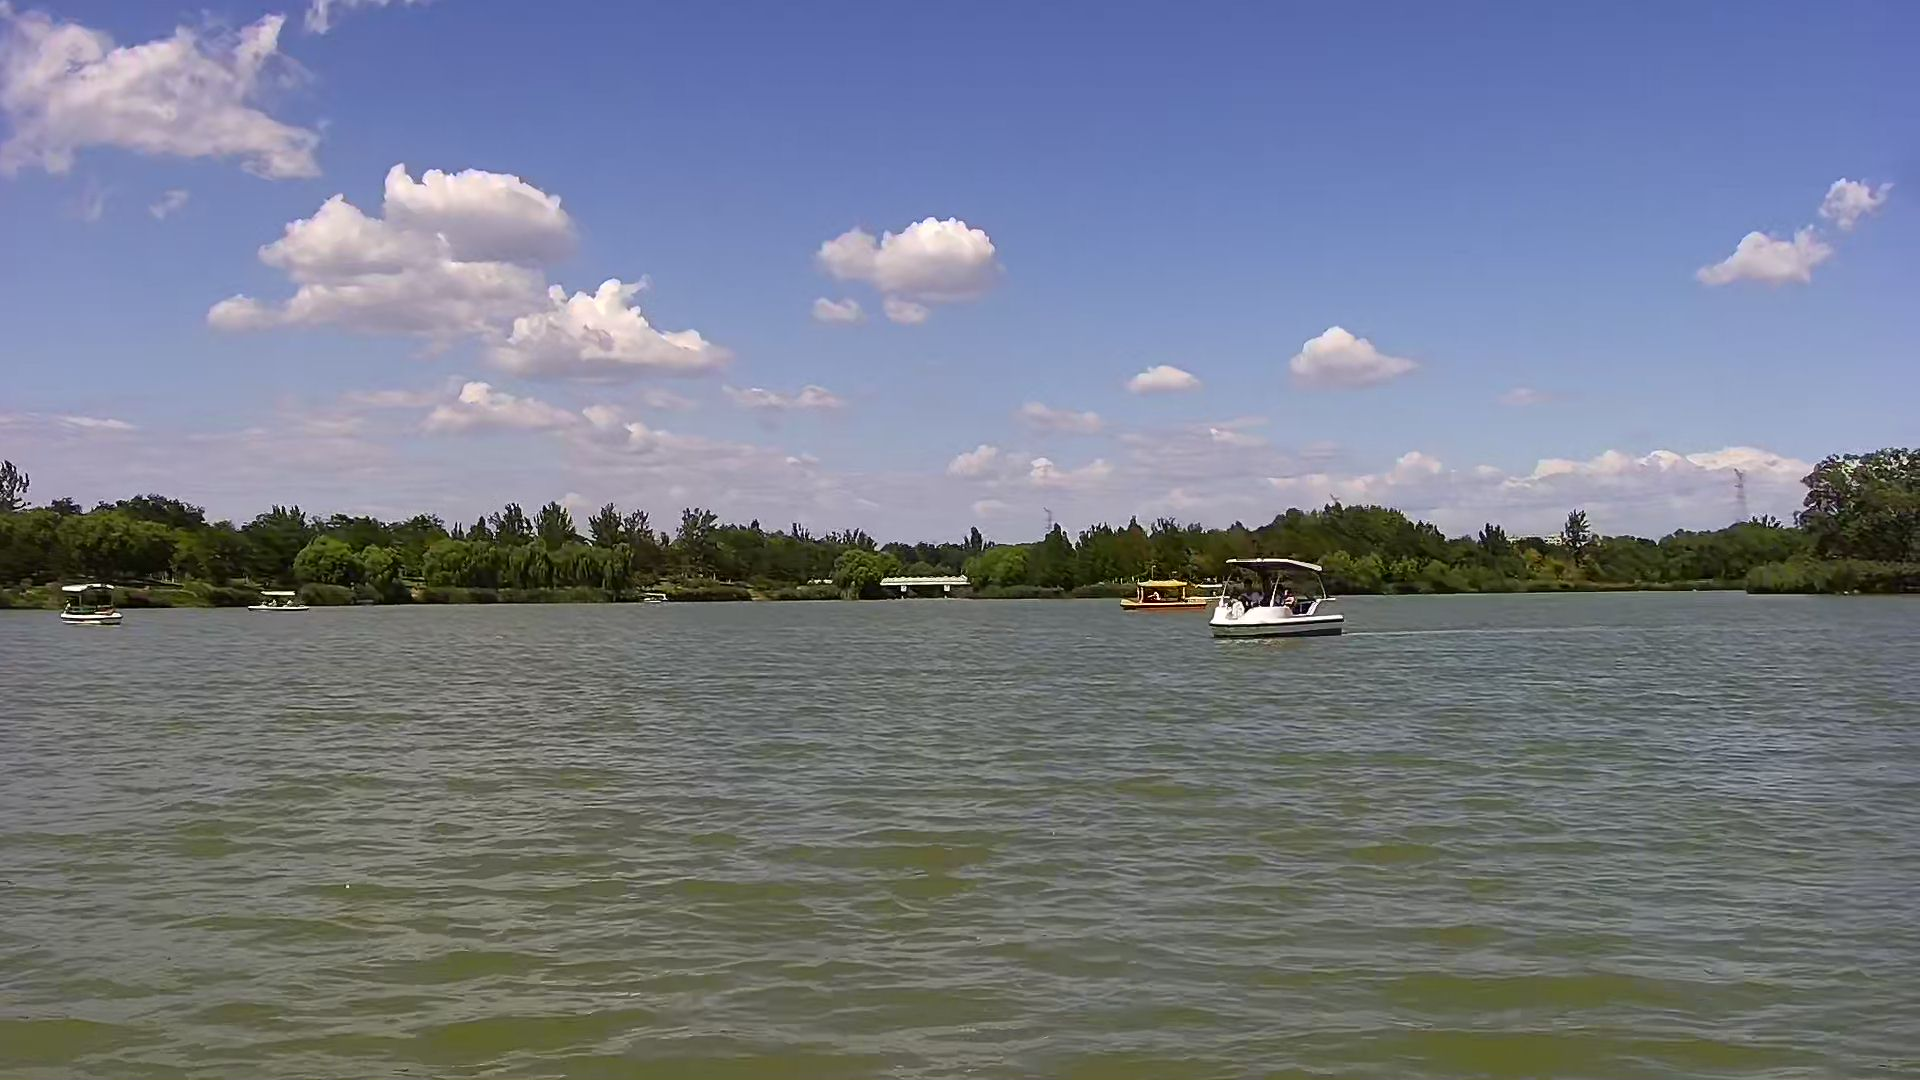boat: (1215, 556, 1344, 646), (58, 582, 119, 626), (1120, 582, 1207, 607), (251, 585, 306, 613)
bridge: (882, 571, 971, 601)
